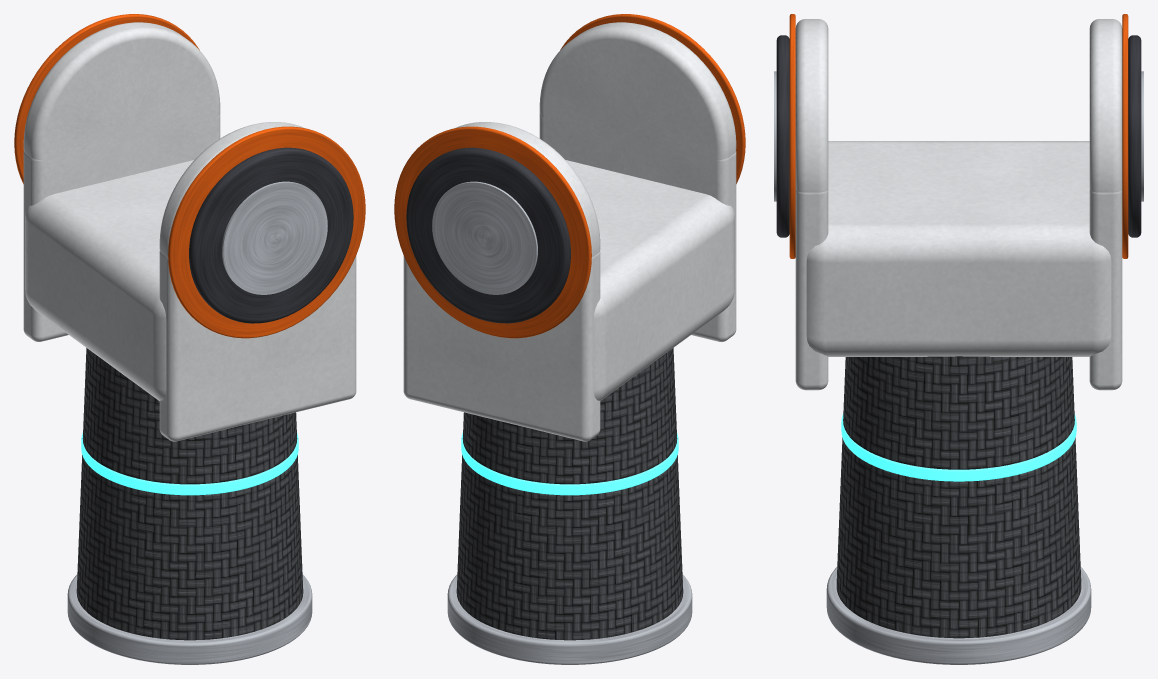
The model's file is middle_arm_2_link.dae.
3 renders of one model, left to right at view 1: azimuth 30°, elevation 25°; view 2: azimuth 150°, elevation 25°; view 3: azimuth 270°, elevation 25°, orthographic. The views are drawn at different scales.
Parts seen in each view (by area): view 1: link_4; view 2: link_4; view 3: link_4.
Part boxes in pixels (x1,y1,x2,y2): link_4: (14, 14, 365, 664); link_4: (394, 14, 745, 664); link_4: (774, 14, 1143, 664).
Bounding box in the file's own units: 0.081 × 0.1132 × 0.1975.
6 materials, 5 textured.
